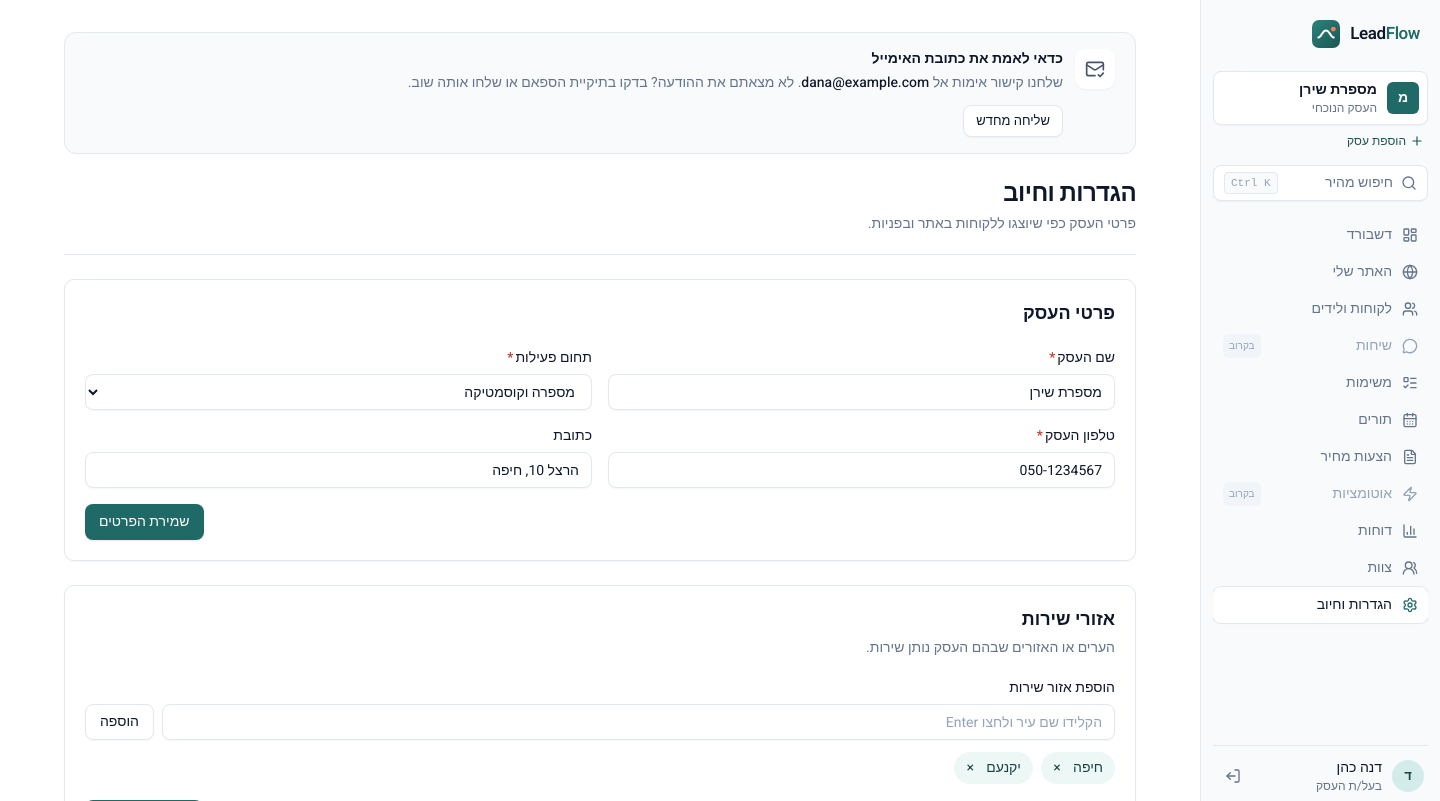
settings › saves business details with a normalised phone and confirms
Replace the text in the field labelled "שם העסק*" with "מספרת שירן ובנותיה" at [862, 392], box [608, 374, 1115, 410]
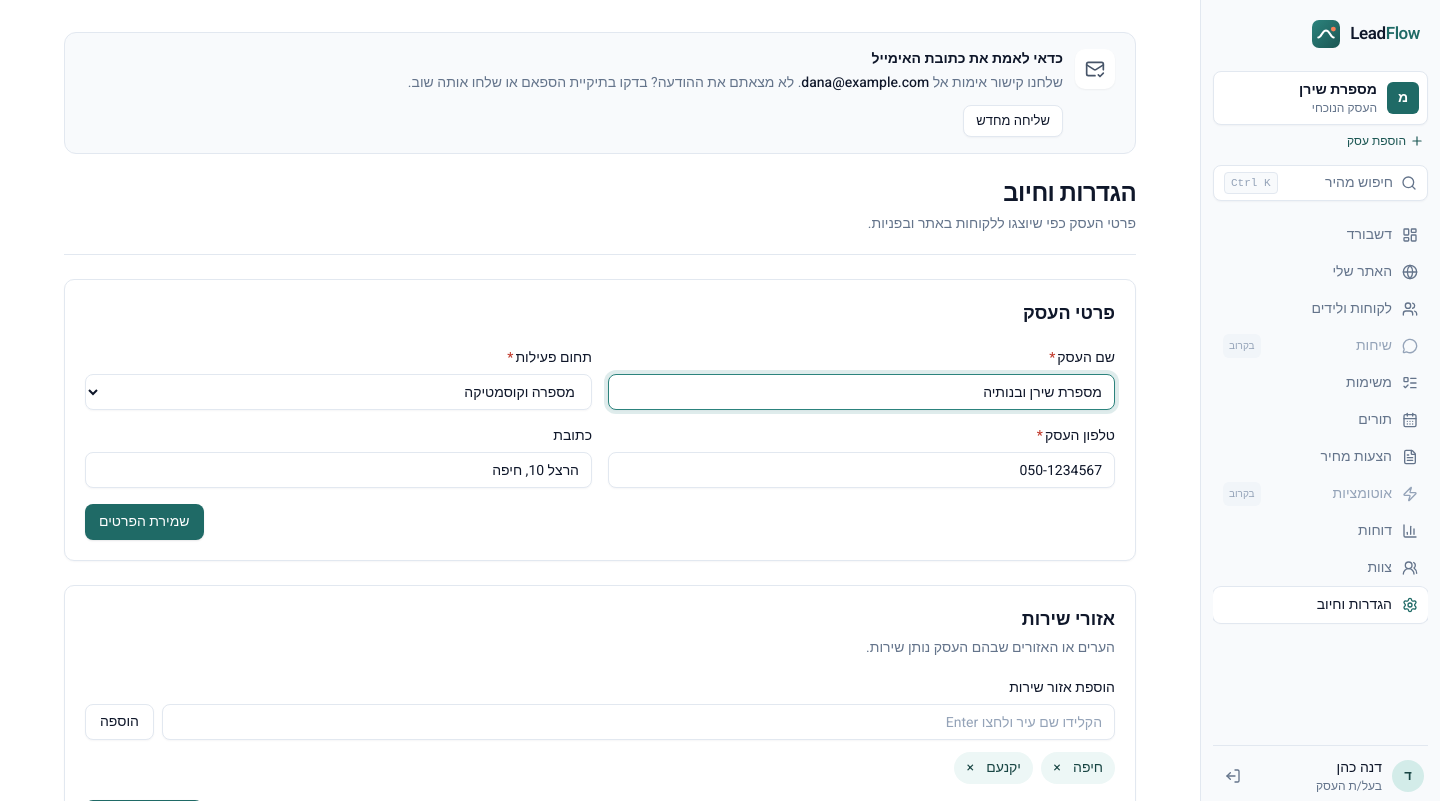
Replace the text in the field labelled "טלפון העסק*" with "+972 52 765 4321" at [862, 470], box [608, 452, 1115, 488]
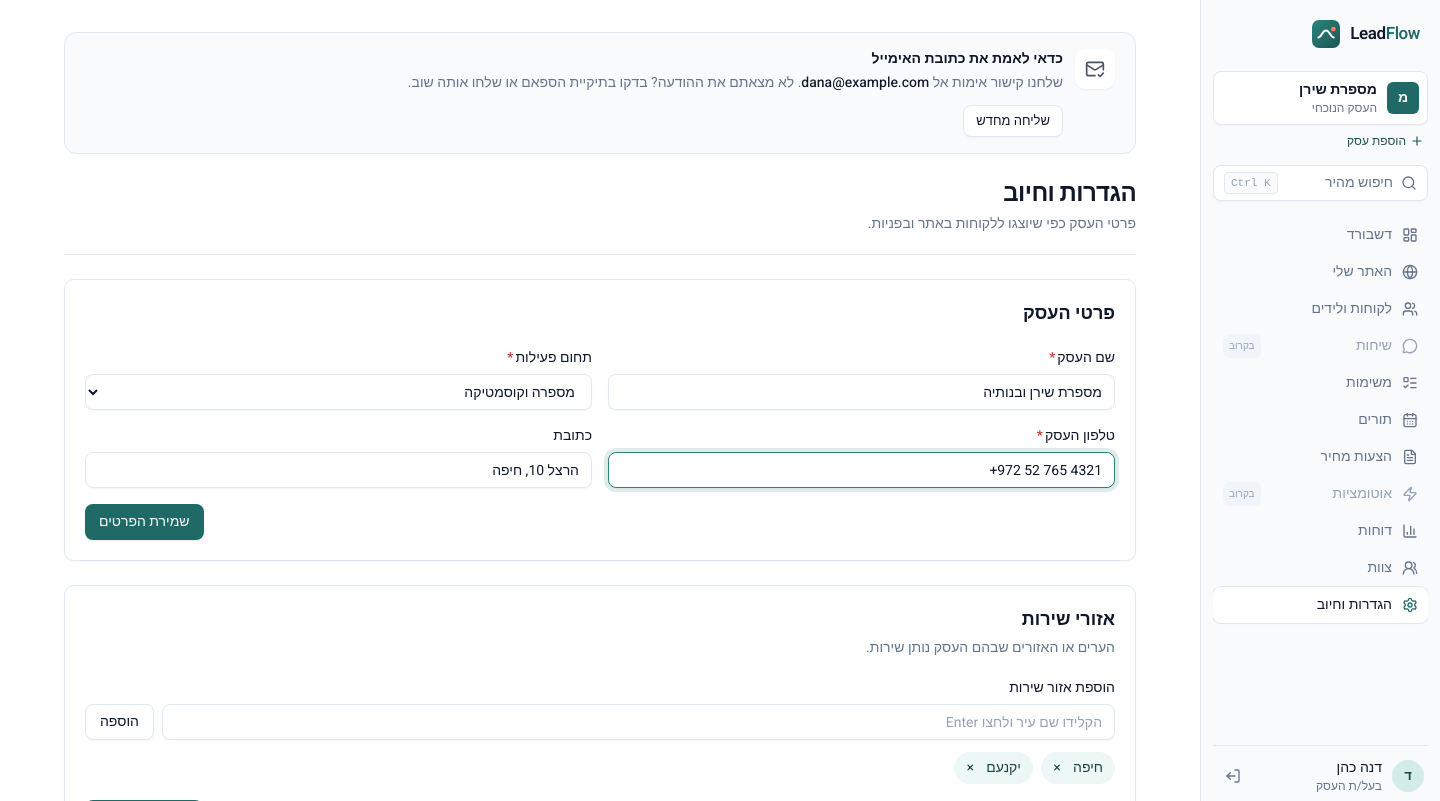
Click the button "שמירת הפרטים" at [144, 522], box [85, 504, 204, 540]
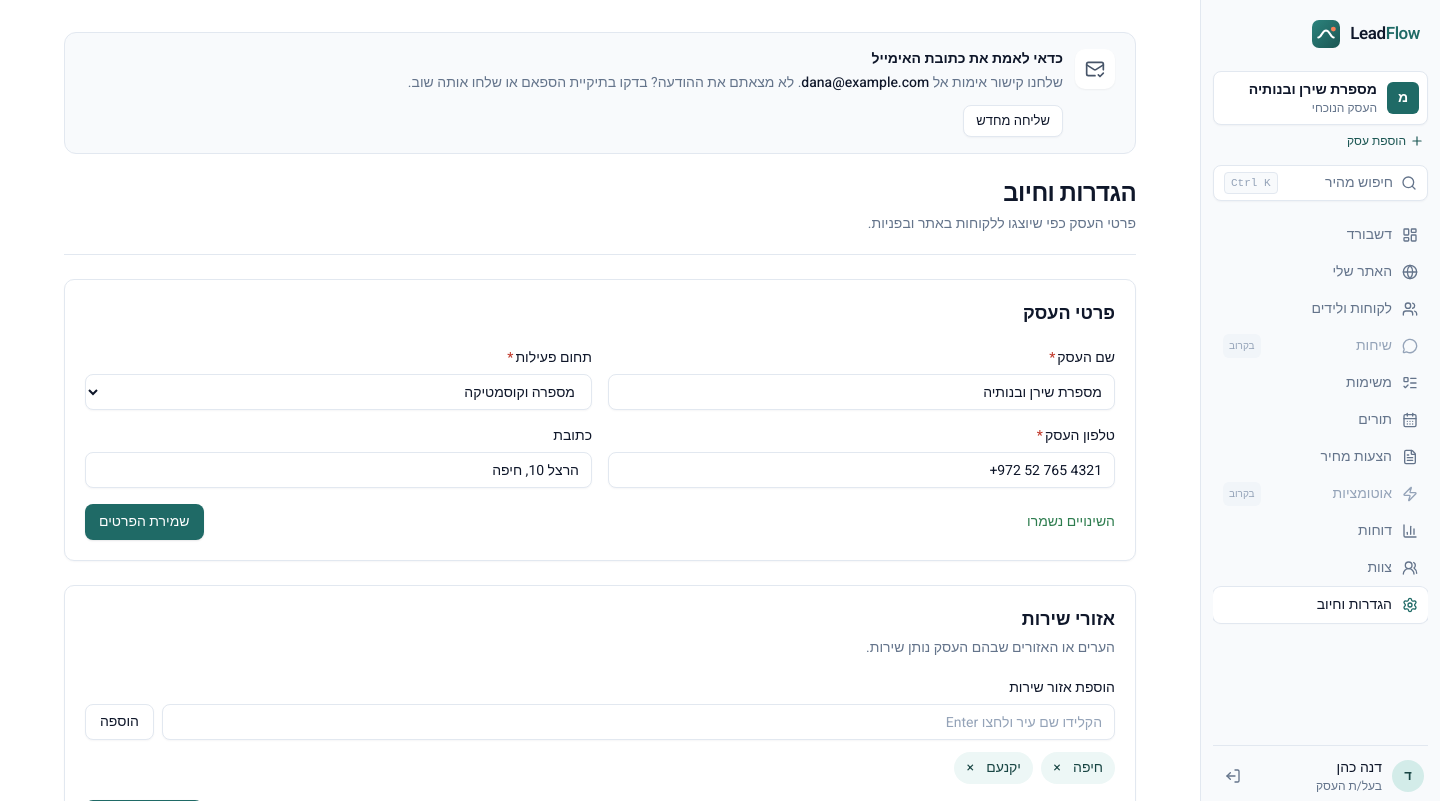
Now the text "השינויים נשמרו" is shown, box [1027, 512, 1115, 532]
